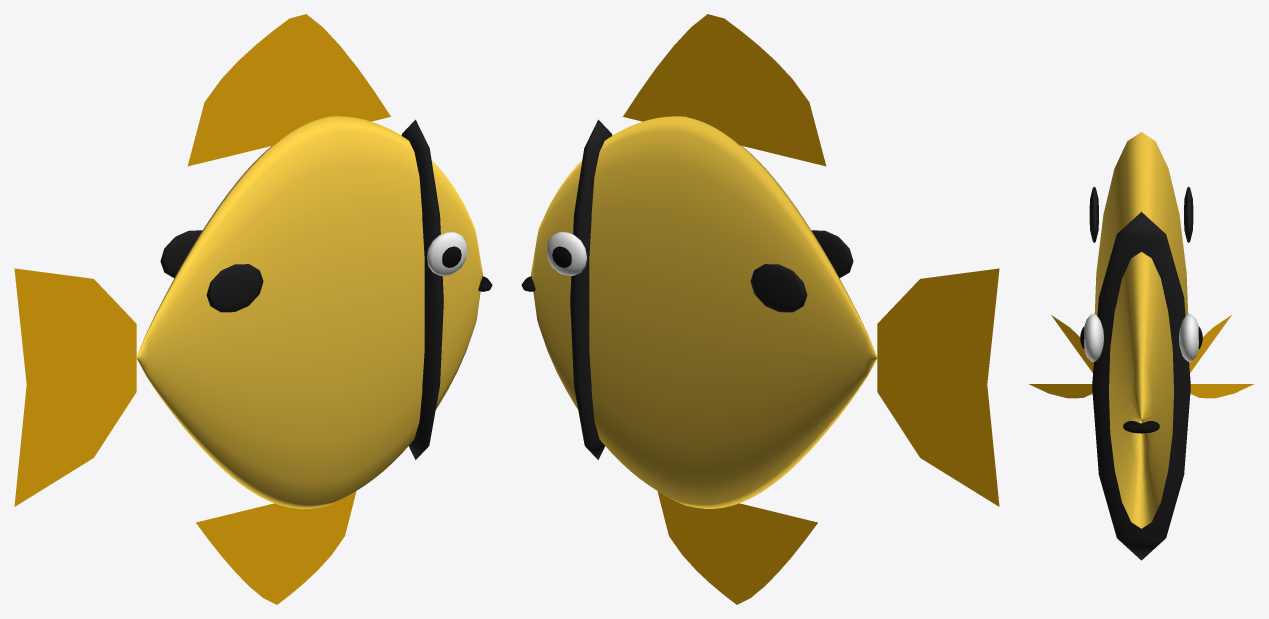
The model's file is butterflyfish.glb.
3 views of the same model, side by side, from view 1: azimuth 30°, elevation 25°; view 2: azimuth 150°, elevation 25°; view 3: azimuth 270°, elevation 25° (orthographic). The views are drawn at different scales.
Visible parts, largest first — view 1: butterflyfish; view 2: butterflyfish; view 3: butterflyfish.
Boxes of the visible parts, x1,y1,x2,y2 form: butterflyfish: (14,14,492,604); butterflyfish: (521,14,999,604); butterflyfish: (1029,132,1253,560).
Size of the model in its own units: 1.16 by 1.37 by 0.4697.
